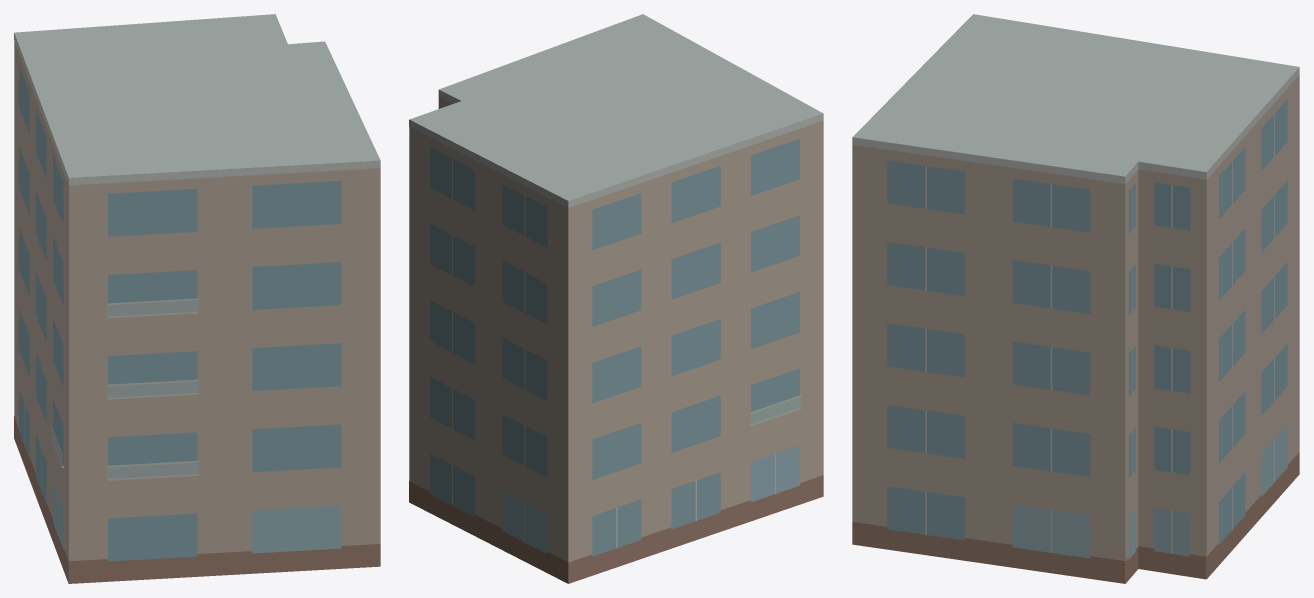
File: survey-upis-32526404.glb
3 renders of one model, left to right at view 1: azimuth 30°, elevation 25°; view 2: azimuth 150°, elevation 25°; view 3: azimuth 270°, elevation 25°, orthographic. The views are drawn at different scales.
Parts seen in each view (by area): view 1: survey-upis-32526404.tmp; view 2: survey-upis-32526404.tmp; view 3: survey-upis-32526404.tmp.
Boxes of the visible parts, bbox=[...] form: survey-upis-32526404.tmp: bbox=[14, 14, 380, 583]; survey-upis-32526404.tmp: bbox=[409, 14, 823, 583]; survey-upis-32526404.tmp: bbox=[852, 14, 1299, 583].
Size of the model in its own units: 11.31 by 13.2 by 13.15.
